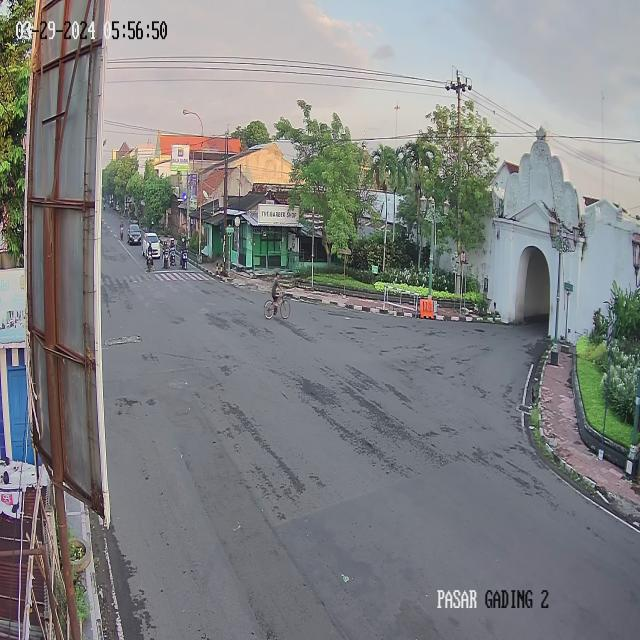car: (142, 232, 160, 260), (128, 224, 142, 245)
motorcycle: (180, 237, 188, 271), (146, 240, 154, 274), (162, 238, 170, 270), (169, 238, 177, 266), (120, 220, 124, 241)
